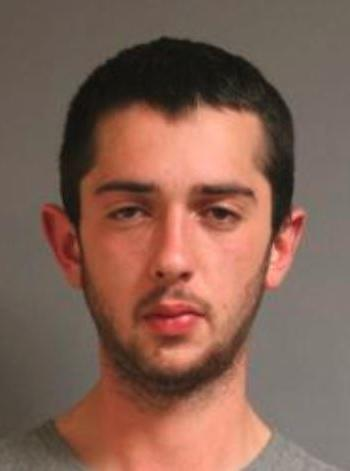Drunk: (89, 110, 260, 373)
